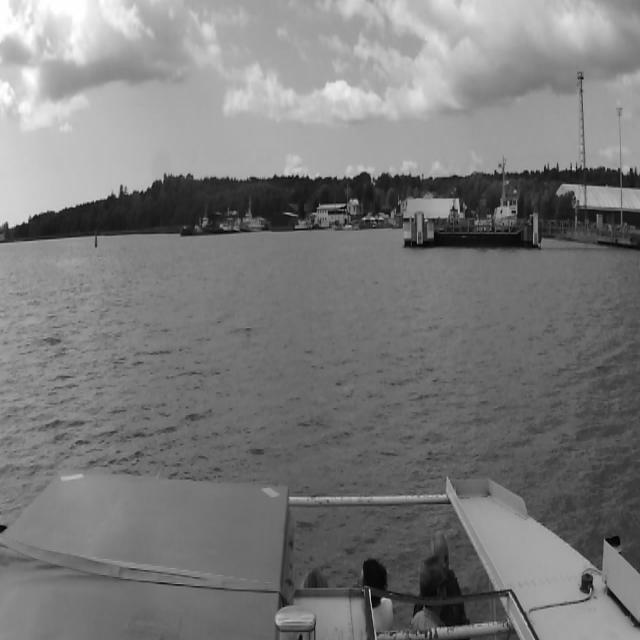buoy: (94, 232, 98, 248)
ship: (241, 205, 266, 234), (342, 184, 352, 231), (194, 213, 216, 230)
